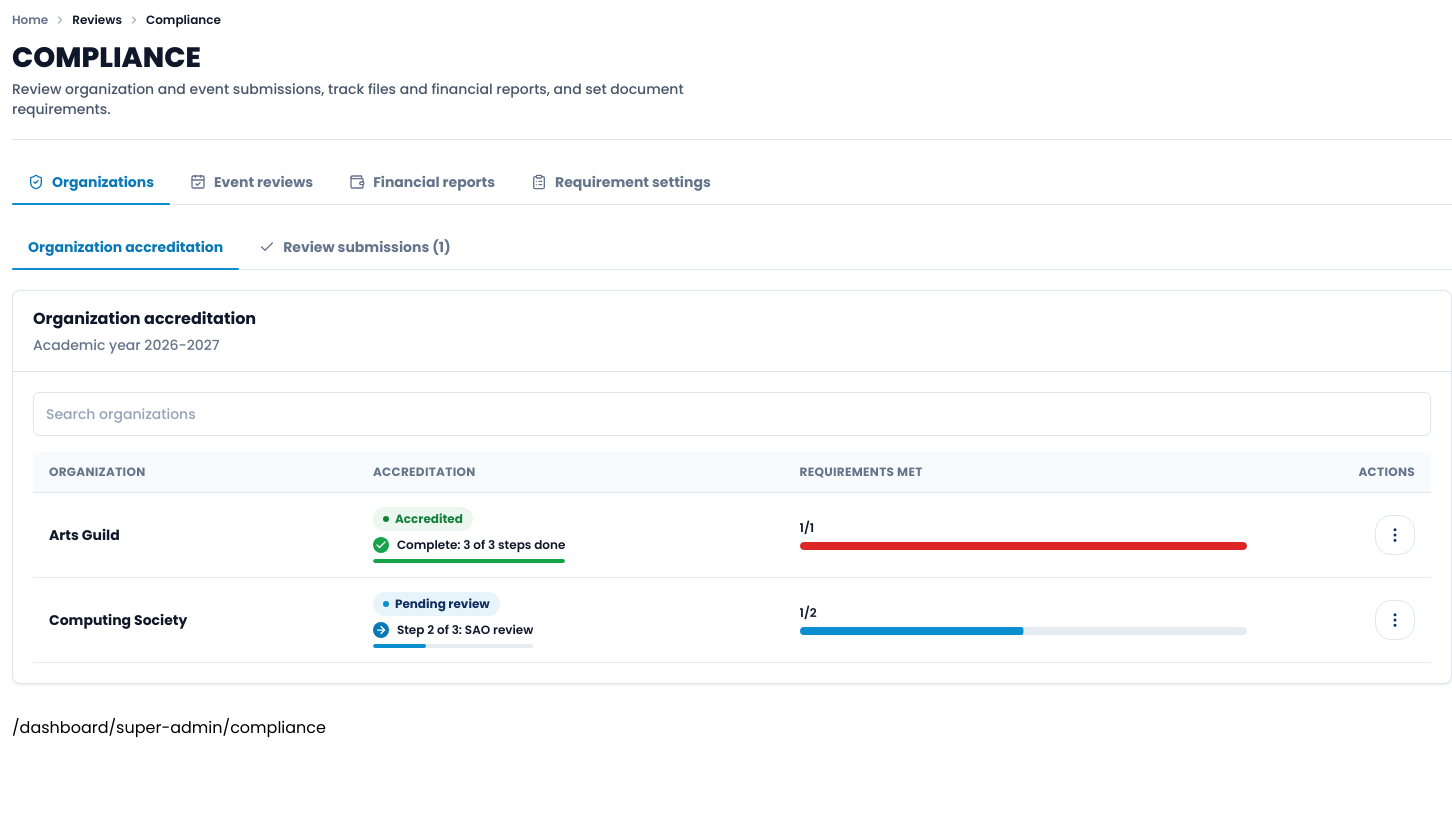
Test case: SaoCompliancePage › jumps from an organization to its pending submissions
The image size is (1452, 822).
What coordinates should you click on to do the following:
click the button named "Actions for Computing Society"
I would click on:
 (1395, 620)
Its box is [1375, 600, 1415, 640].
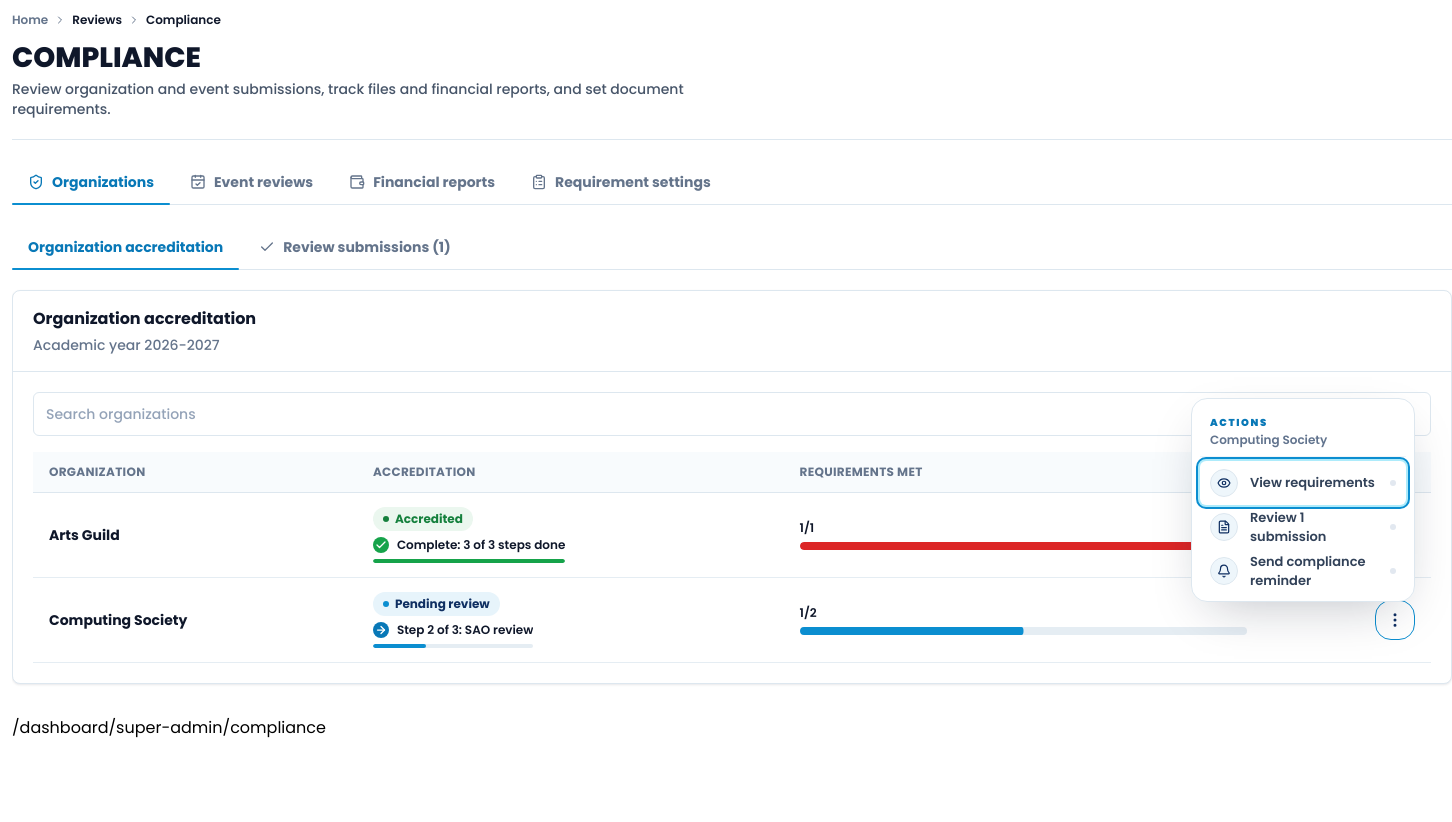
What coordinates should you click on to do the following:
click the menu item "Review 1 submission"
I would click on:
 (1303, 527)
Its box is [1200, 505, 1406, 549].
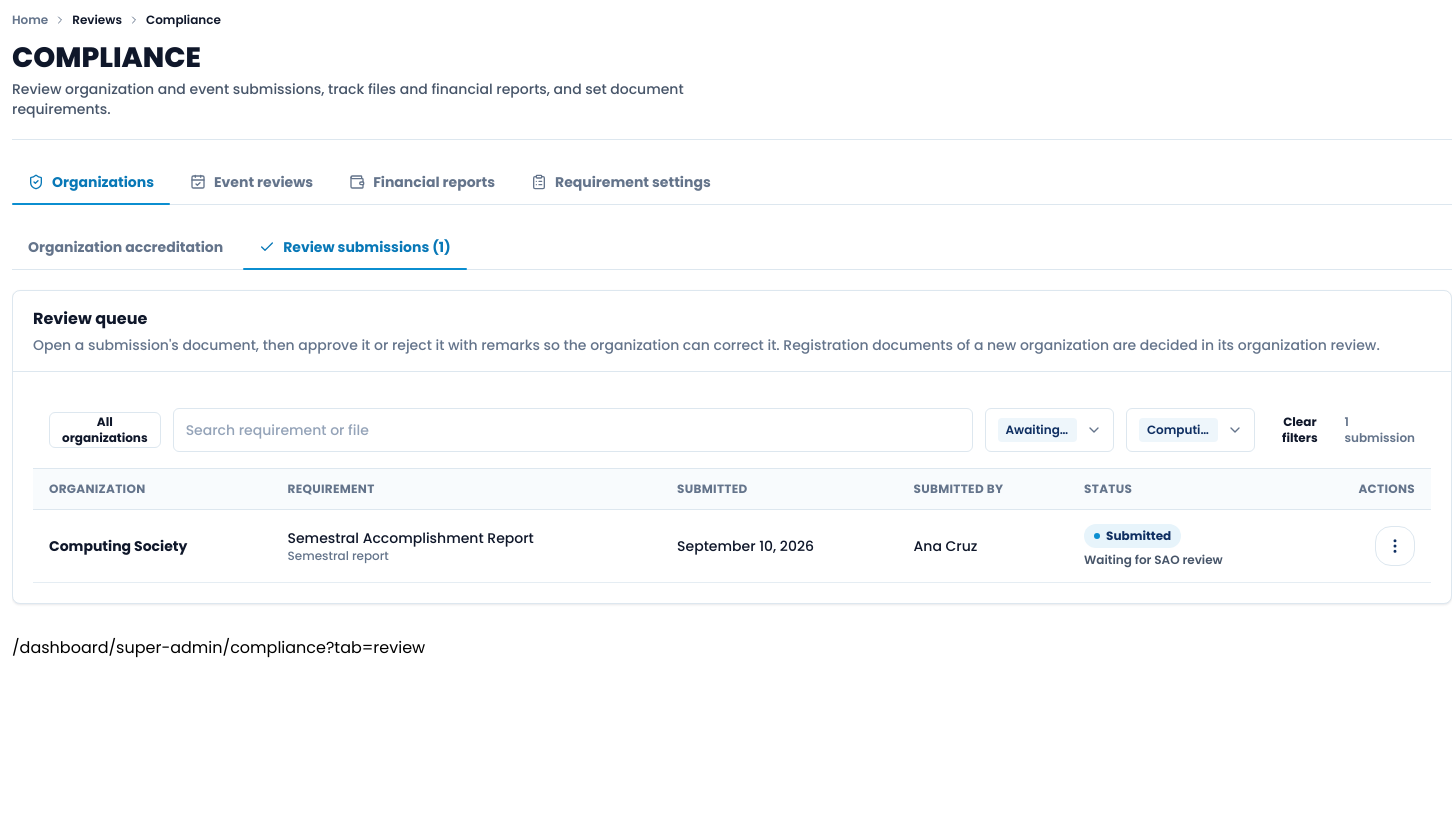
Now the text "Semestral Accomplishment Report" is shown, box [288, 528, 534, 548]
Now the text with test id "search" shows "?tab=review", box [326, 636, 425, 659]
